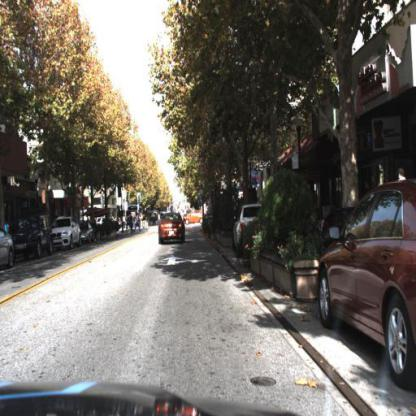car: (318, 177, 416, 393), (11, 211, 54, 260), (15, 211, 54, 261), (232, 201, 262, 251), (52, 214, 82, 252), (157, 212, 186, 248), (1, 225, 17, 276), (81, 220, 94, 247)
pedestrian: (136, 211, 142, 233)
